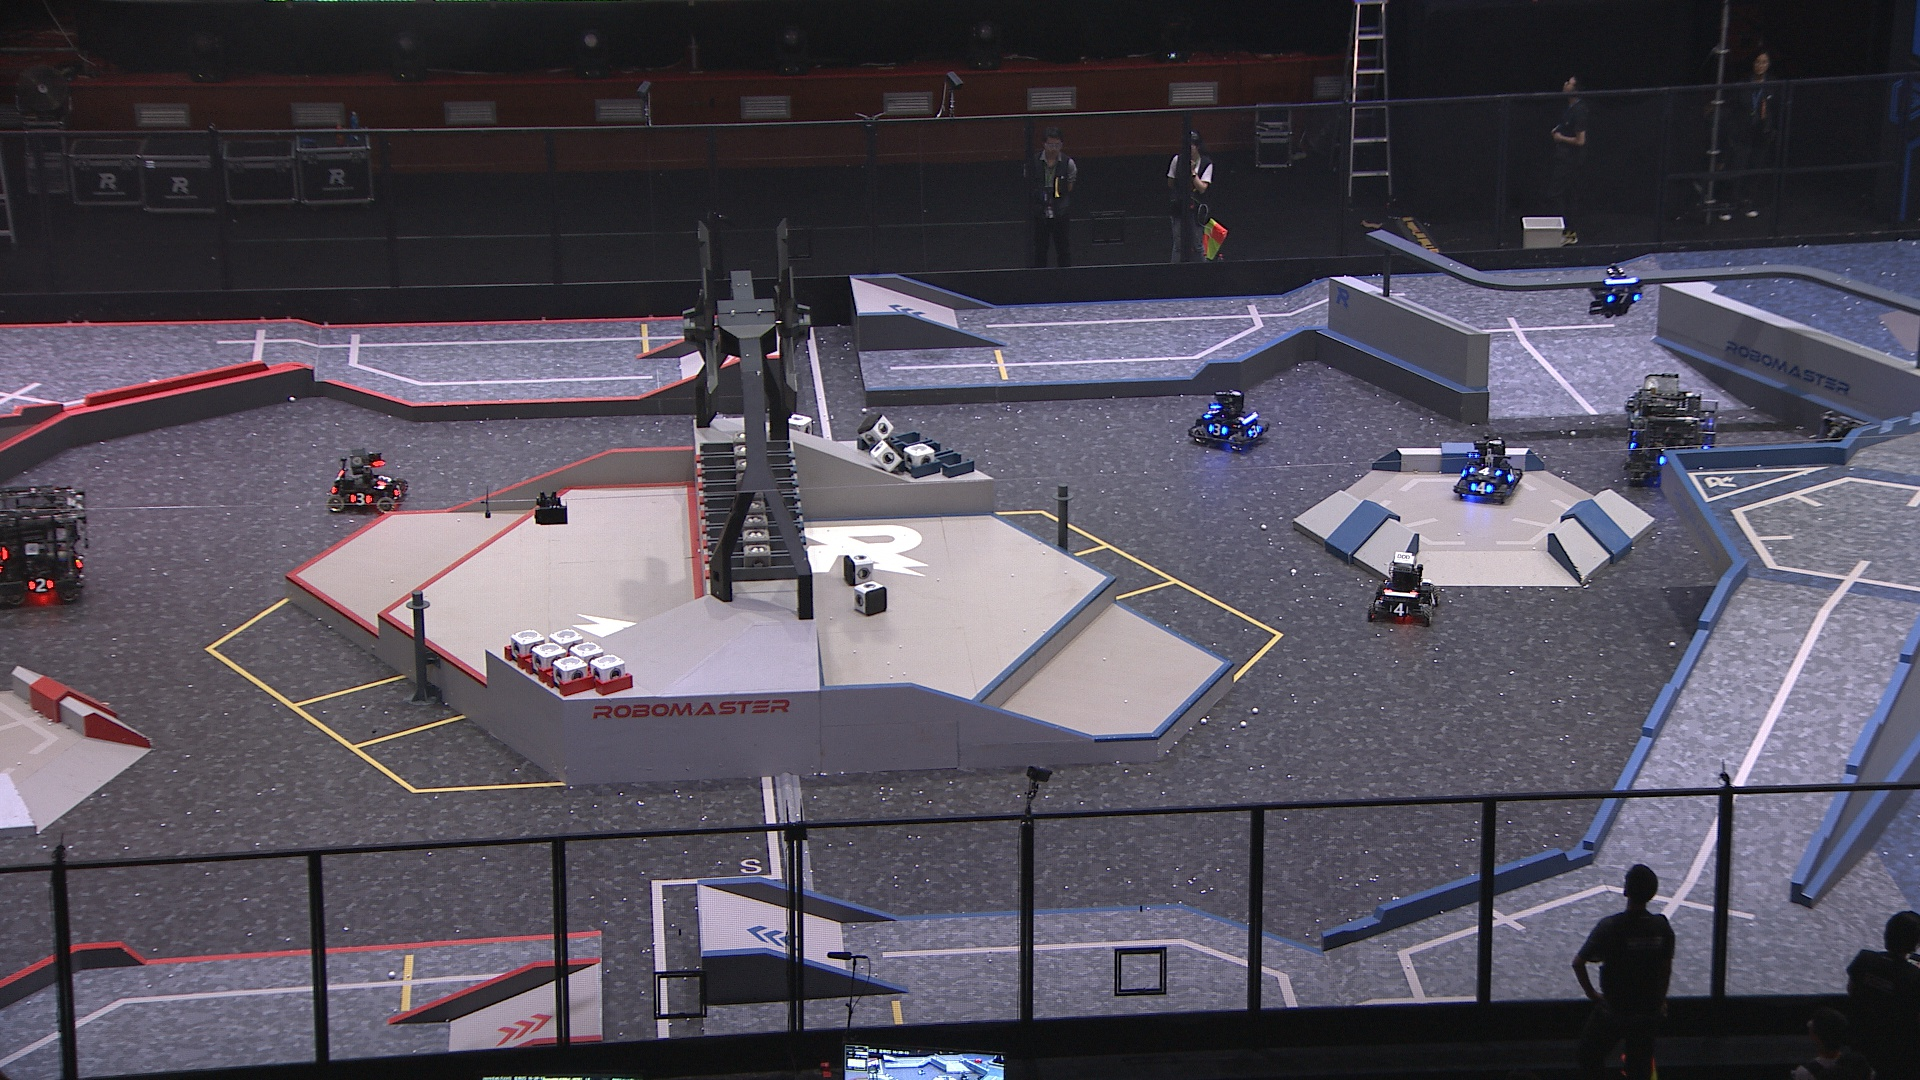armor: (1605, 291, 1640, 306), (26, 576, 54, 593), (1470, 465, 1501, 480), (1386, 603, 1410, 617), (1468, 481, 1493, 495), (349, 493, 373, 506), (1209, 423, 1228, 436), (376, 471, 390, 487), (1204, 405, 1220, 419), (1245, 423, 1262, 436), (1505, 465, 1515, 485), (1425, 591, 1437, 608), (392, 484, 405, 498)
car: (1621, 371, 1720, 488), (1803, 407, 1888, 489), (323, 444, 406, 516), (1367, 553, 1443, 628), (1188, 389, 1269, 454), (1447, 436, 1524, 502)
watcher: (1586, 262, 1643, 318)
